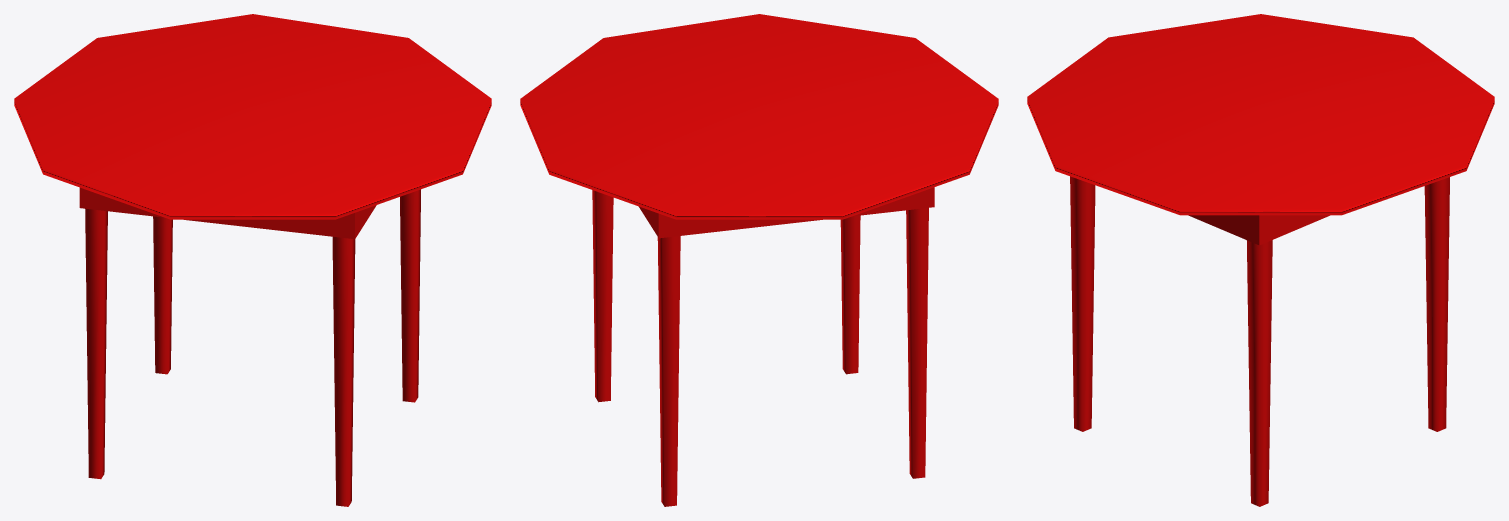
The model's file is Table_01_Lod2.fbx.
The picture shows the model from 3 angles, left to right: view 1: azimuth 30°, elevation 25°; view 2: azimuth 150°, elevation 25°; view 3: azimuth 270°, elevation 25°; orthographic projection. The views are drawn at different scales.
Parts seen in each view (by area): view 1: Table_01_Lod2; view 2: Table_01_Lod2; view 3: Table_01_Lod2.
Part boxes in pixels (x1,y1,x2,y2): Table_01_Lod2: [14, 14, 491, 506]; Table_01_Lod2: [520, 14, 998, 506]; Table_01_Lod2: [1027, 14, 1494, 506].
Size of the model in its own units: 96.5 by 74.17 by 97.99.
